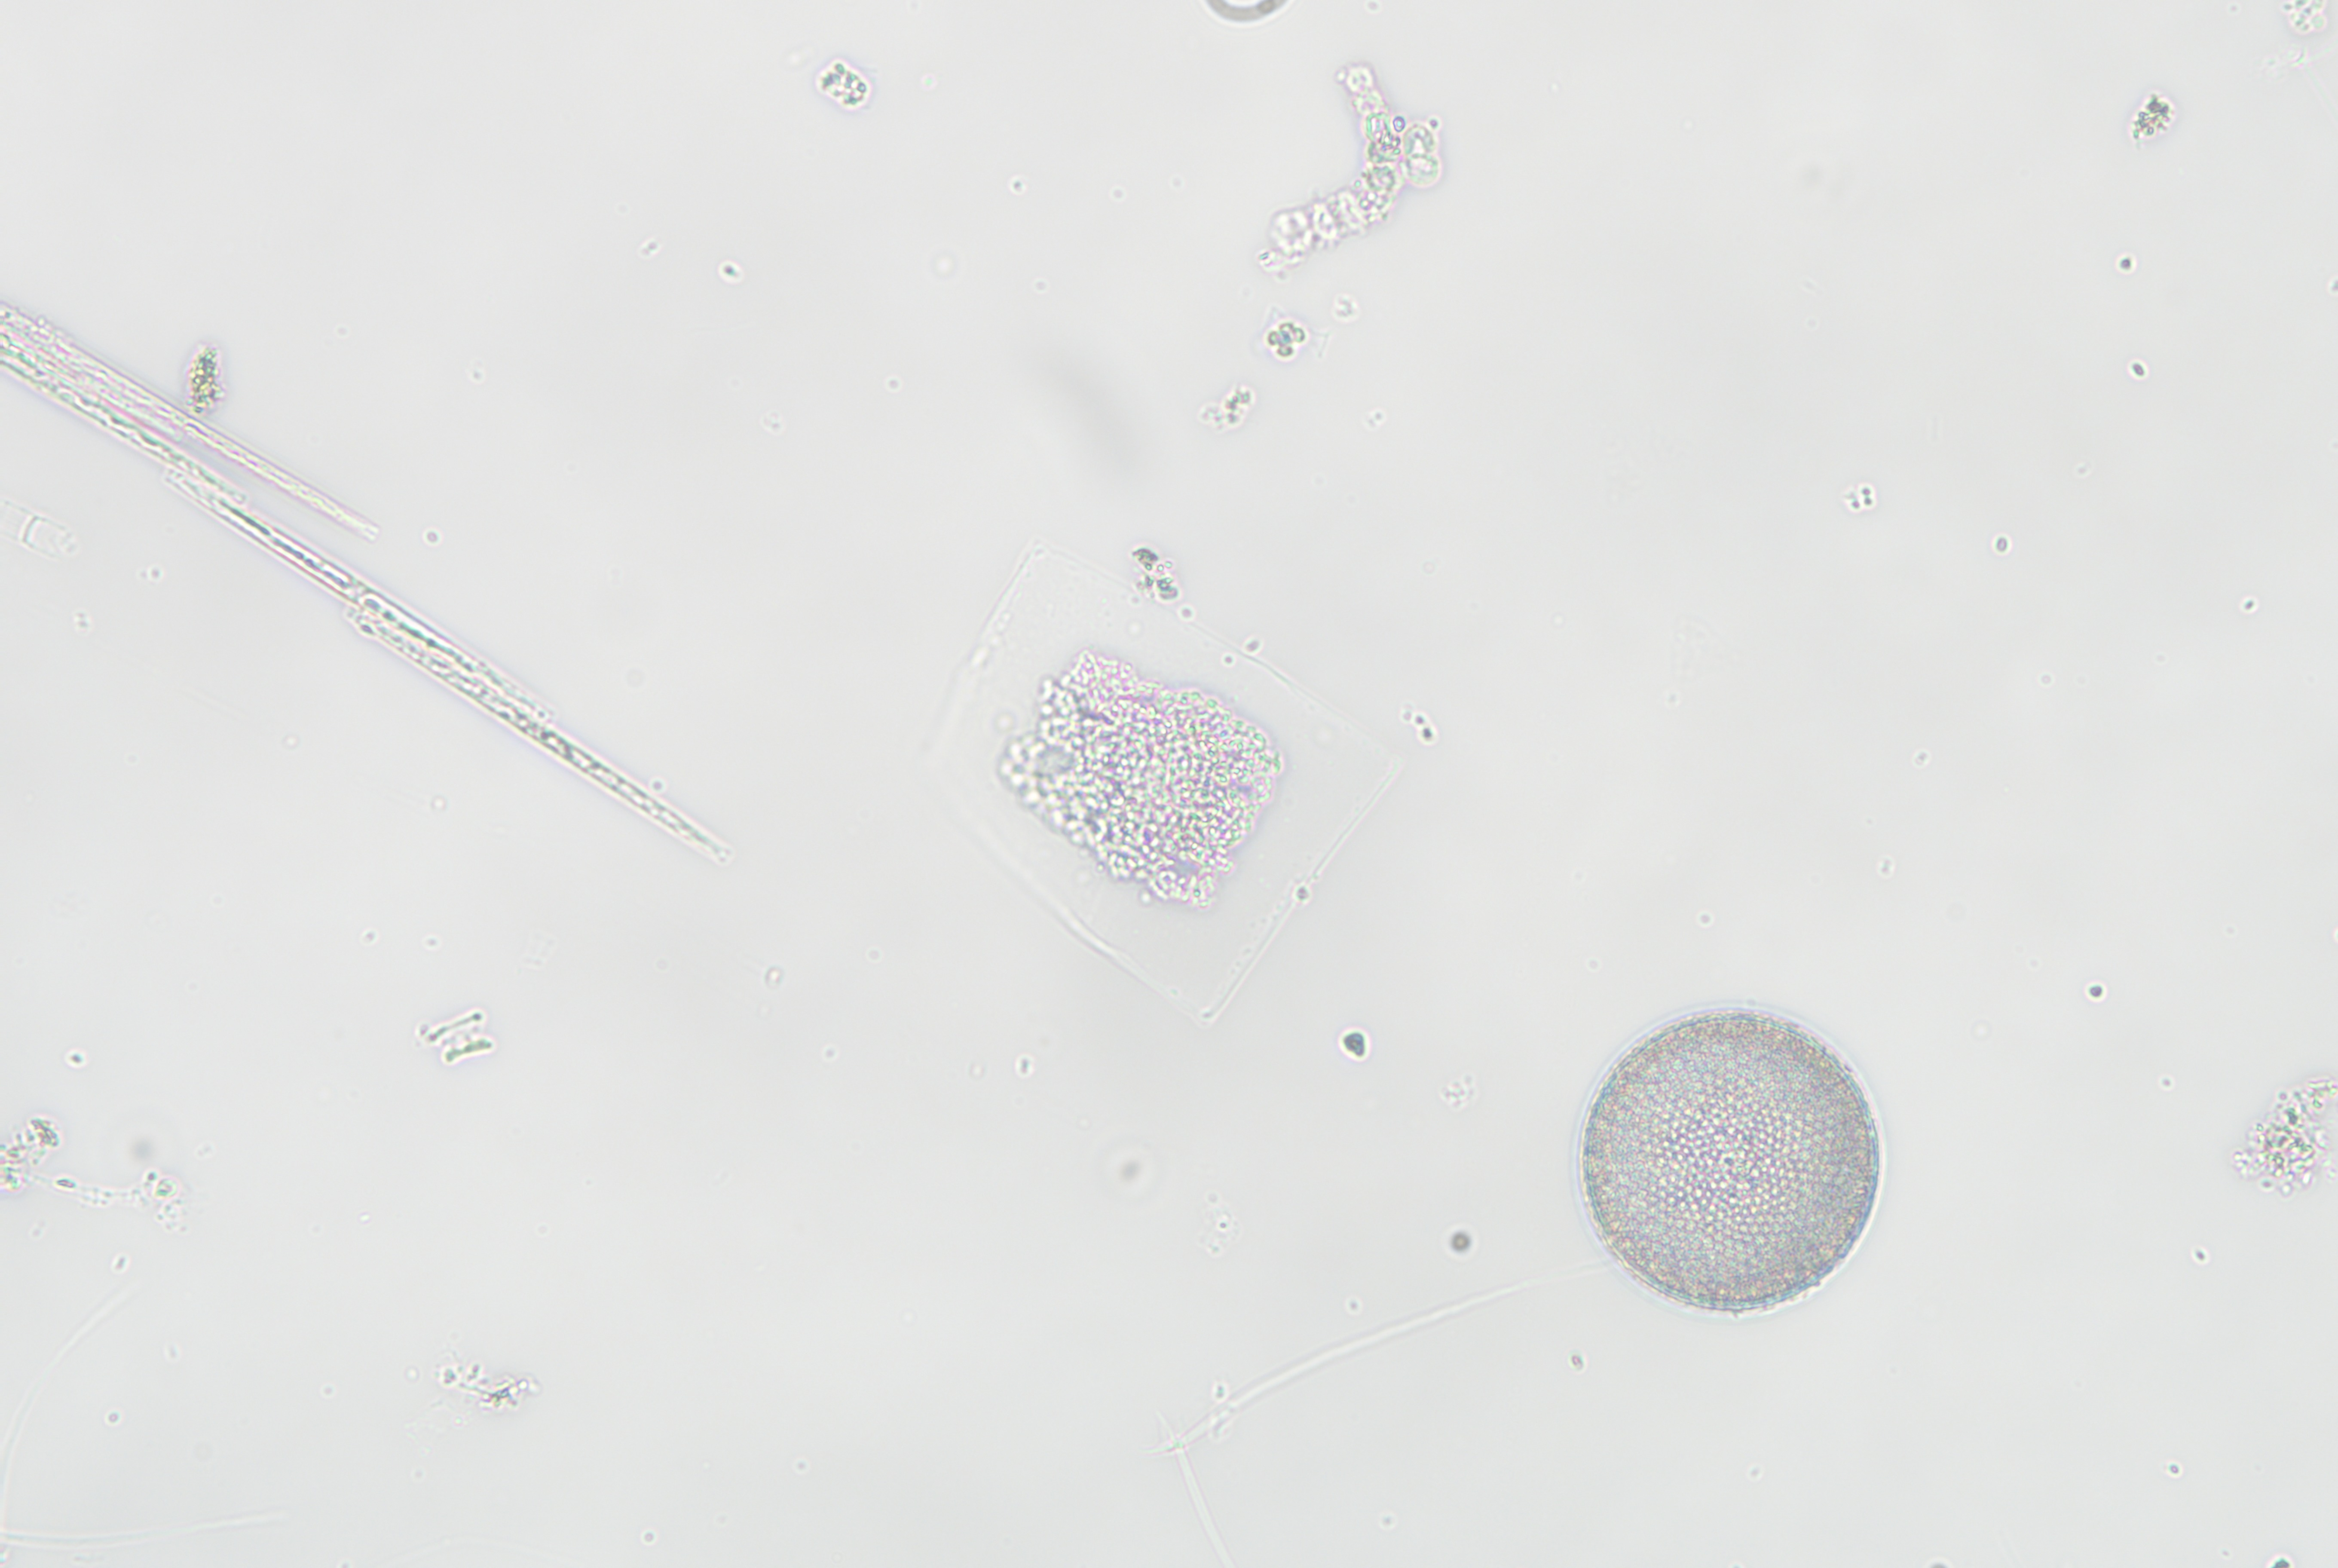coscinodiscus: (1580, 997, 1890, 1326)
helicotheca: (882, 502, 1405, 1045)
